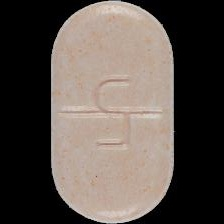53808-0970: (0, 0, 224, 224)
